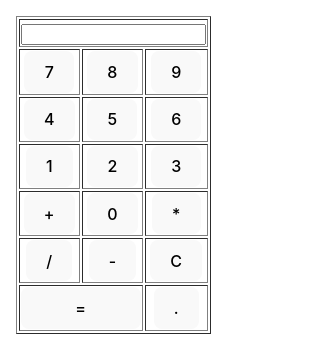
Test case: Calculator Component › check if division work
The image size is (320, 351).
Click the button "6": (176, 119) [151, 99, 202, 140]
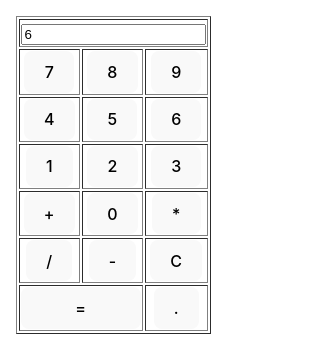
Click the button "/": (49, 261) [26, 240, 72, 281]
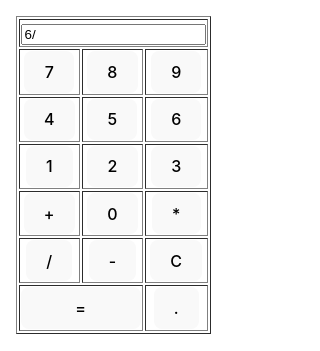
Click the button "2": (112, 166) [87, 146, 138, 187]
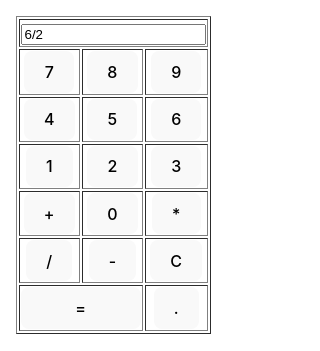
Click the button "=": (81, 308) [20, 287, 141, 329]
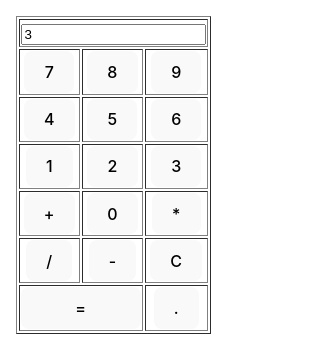
Check: the field holds "3", box [20, 24, 206, 45]
